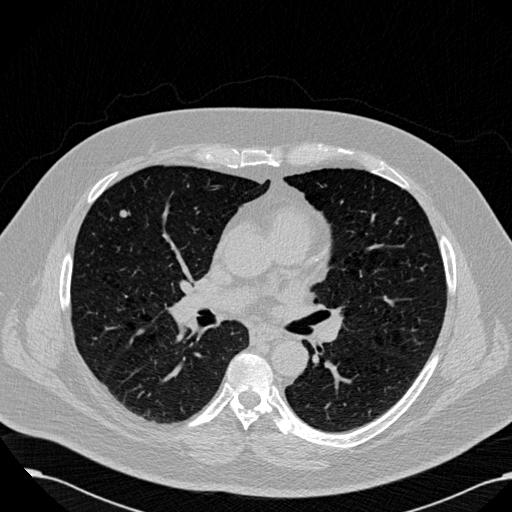nodule: (117, 207, 130, 220)
